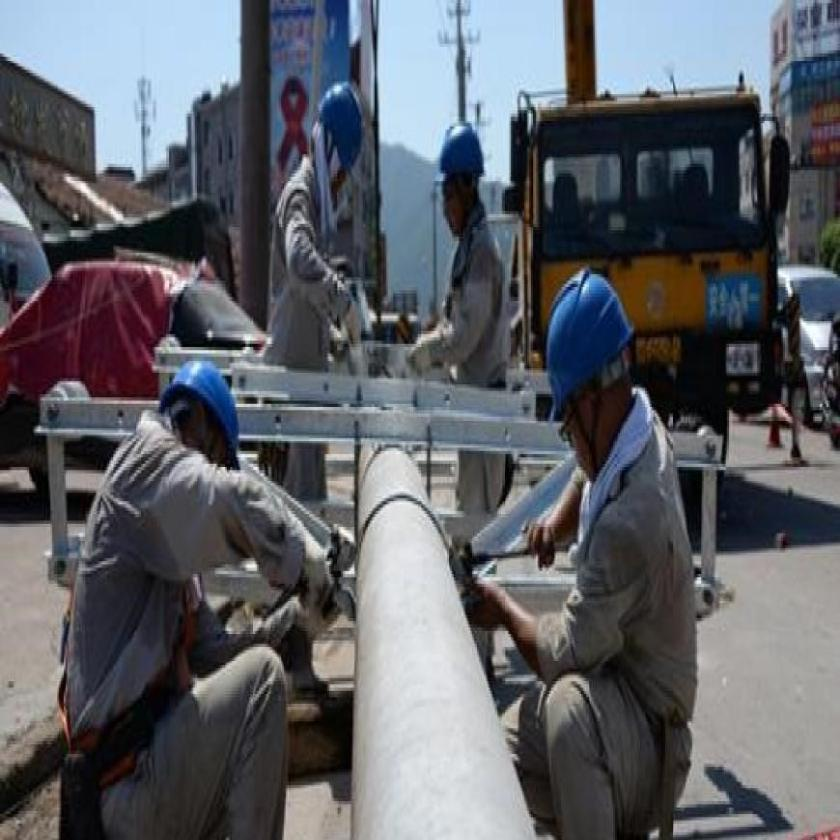Con_casco: (543, 264, 636, 483), (158, 364, 244, 503), (312, 77, 368, 211), (437, 121, 486, 246)
